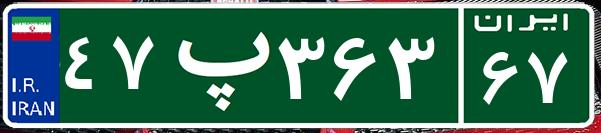3: (385, 28, 445, 110), (273, 28, 330, 110)
4: (57, 26, 110, 107)
6: (330, 28, 385, 110), (475, 38, 525, 113)
7: (110, 28, 158, 105), (525, 38, 570, 115)
پ: (158, 15, 273, 115)
